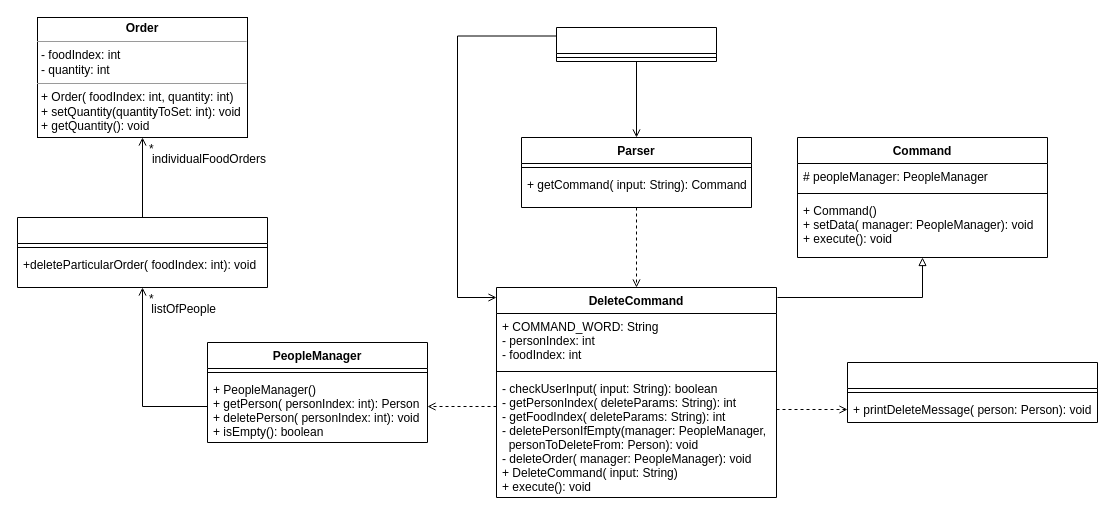
Some shapes in this 1115 by 518 pixel diagram are drawn without their labels. The shapes that lost their labels are listed below. From the top down, each one's box as (x1, y1, x2, y2) in pixels, then its label:
(556, 26, 716, 62): Duke
(16, 216, 268, 288): Person
(846, 362, 1098, 422): Ui
